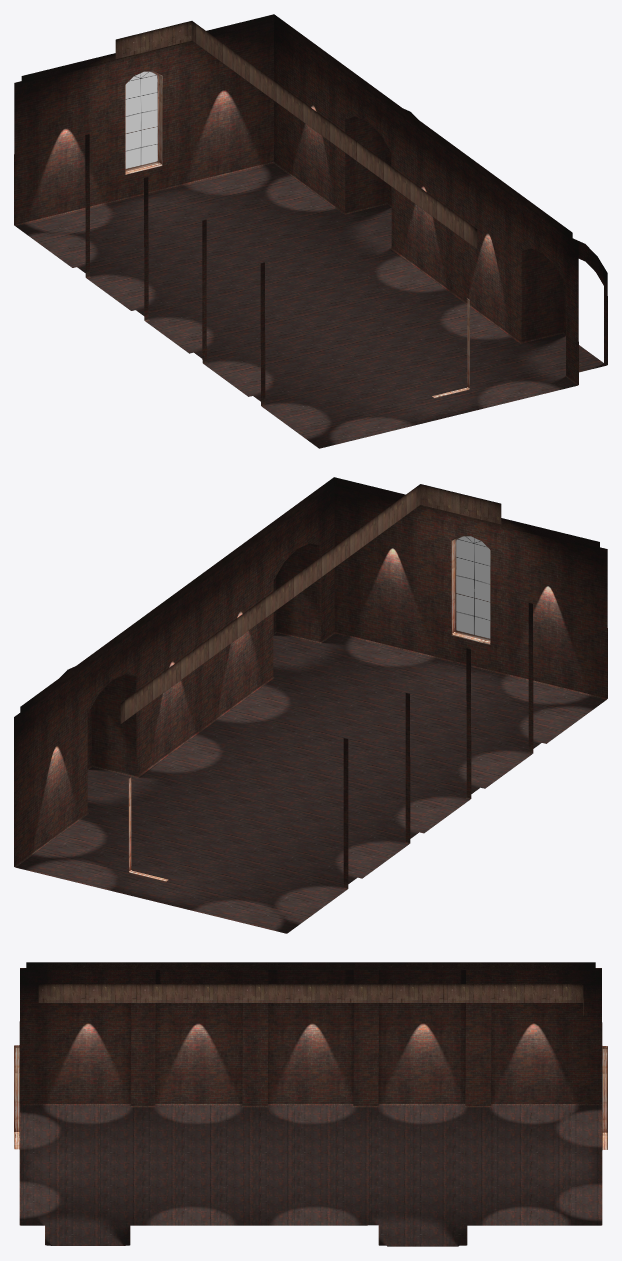
The model's file is backroom.glb.
The picture shows the model from 3 angles, top to bottom: view 1: azimuth 30°, elevation 25°; view 2: azimuth 150°, elevation 25°; view 3: azimuth 270°, elevation 25°; orthographic projection. The views are drawn at different scales.
Visible parts, largest first — view 1: InteriorFactory.floor.EXPORT, InteriorFactory.Walls.Entrance.EXPORT, InteriorFactory.Walls.Ends.EXPORT, InteriorFactory.Ceiling.EXPORT, InteriorFactory.windows.EXPORT, InteriorFactory.Walls.Backwall.EXPORT; view 2: InteriorFactory.floor.EXPORT, InteriorFactory.Walls.Entrance.EXPORT, InteriorFactory.Walls.Ends.EXPORT, InteriorFactory.Ceiling.EXPORT, InteriorFactory.windows.EXPORT, InteriorFactory.Walls.Backwall.EXPORT; view 3: InteriorFactory.floor.EXPORT, InteriorFactory.Walls.Backwall.EXPORT, InteriorFactory.Ceiling.EXPORT, InteriorFactory.Walls.Entrance.EXPORT, InteriorFactory.windows.EXPORT.
Part boxes in pixels (bbox=[...]): InteriorFactory.floor.EXPORT: bbox=[15, 163, 606, 448]; InteriorFactory.Walls.Entrance.EXPORT: bbox=[14, 22, 607, 406]; InteriorFactory.Walls.Ends.EXPORT: bbox=[14, 22, 273, 224]; InteriorFactory.Ceiling.EXPORT: bbox=[21, 14, 572, 248]; InteriorFactory.windows.EXPORT: bbox=[125, 71, 469, 397]; InteriorFactory.Walls.Backwall.EXPORT: bbox=[85, 134, 265, 405]; InteriorFactory.floor.EXPORT: bbox=[15, 633, 606, 933]; InteriorFactory.Walls.Entrance.EXPORT: bbox=[14, 486, 607, 889]; InteriorFactory.Walls.Ends.EXPORT: bbox=[334, 486, 607, 698]; InteriorFactory.Ceiling.EXPORT: bbox=[20, 477, 599, 723]; InteriorFactory.windows.EXPORT: bbox=[128, 535, 490, 881]; InteriorFactory.Walls.Backwall.EXPORT: bbox=[343, 603, 533, 888]; InteriorFactory.floor.EXPORT: bbox=[20, 1105, 601, 1246]; InteriorFactory.Walls.Backwall.EXPORT: bbox=[19, 968, 602, 1105]; InteriorFactory.Ceiling.EXPORT: bbox=[26, 962, 595, 1015]; InteriorFactory.Walls.Entrance.EXPORT: bbox=[19, 1104, 602, 1245]; InteriorFactory.windows.EXPORT: bbox=[14, 1045, 607, 1149].
Size of the model in its own units: 21.72 by 11.72 by 38.48.
6 materials, 6 textured.
